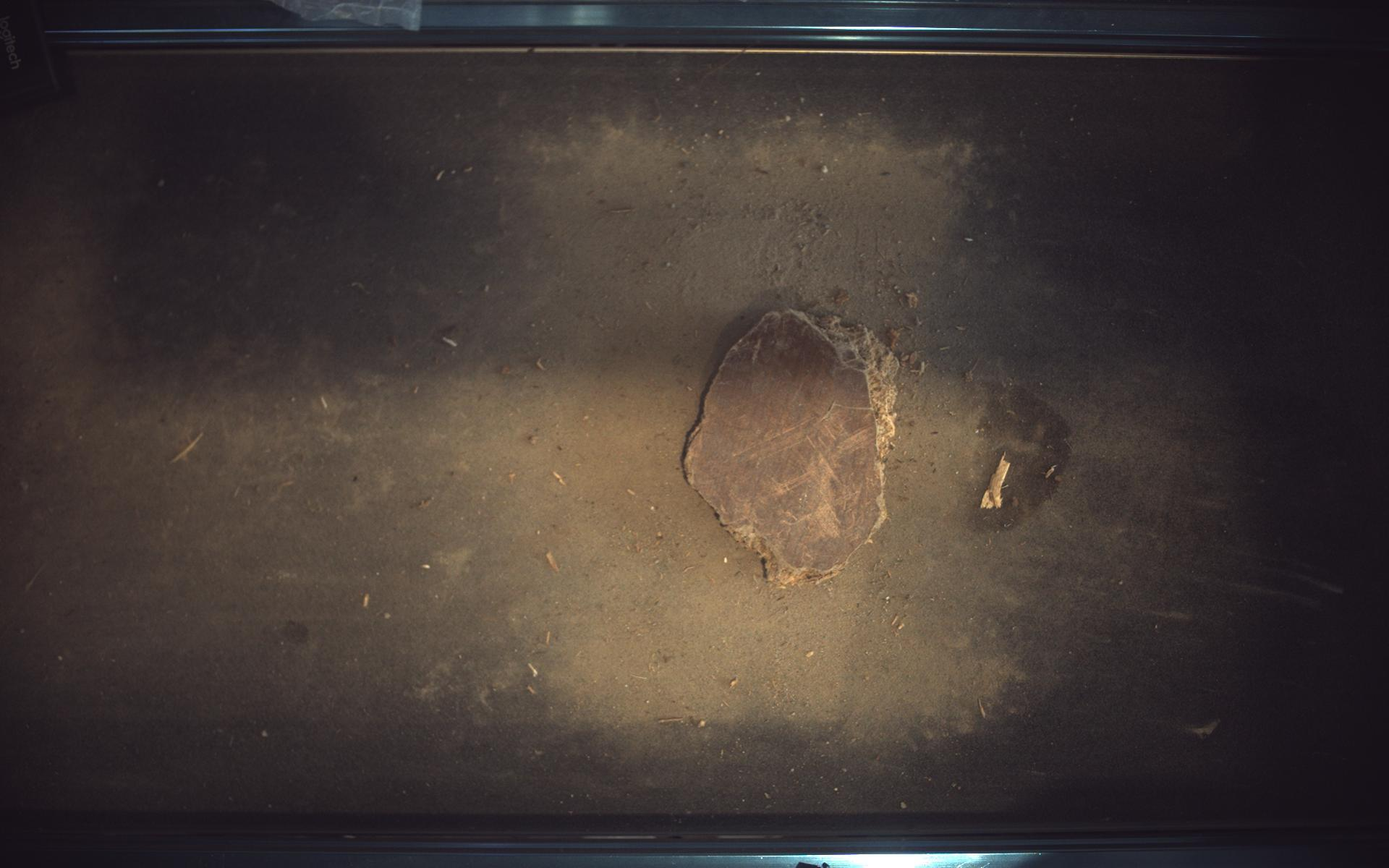wood: (684, 309, 901, 587)
